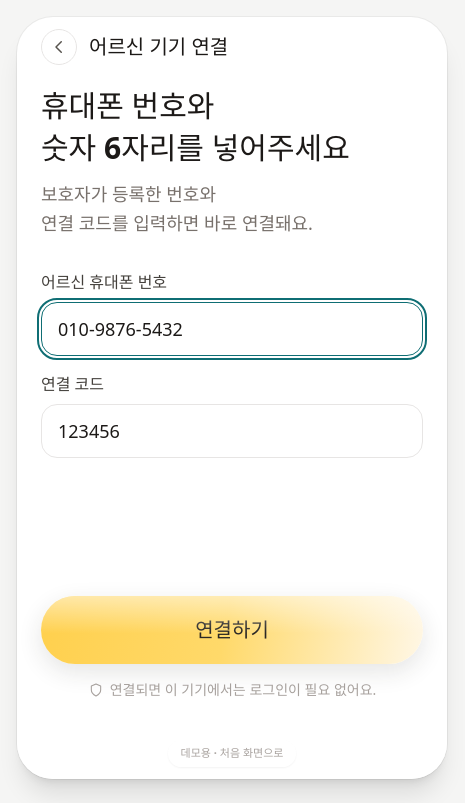
entry points › connects the senior device with the initial mock values
Click the button "연결하기" at (232, 630), box [41,596,423,664]
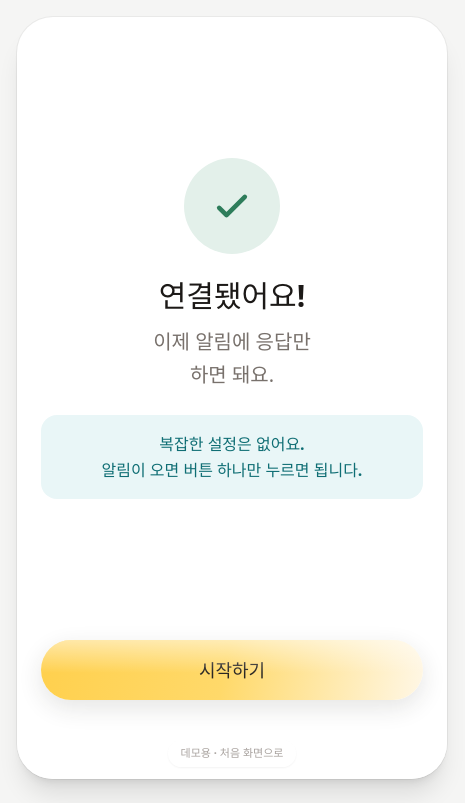
Expected: the heading "연결됐어요!" is shown, [159,278,305,314]
